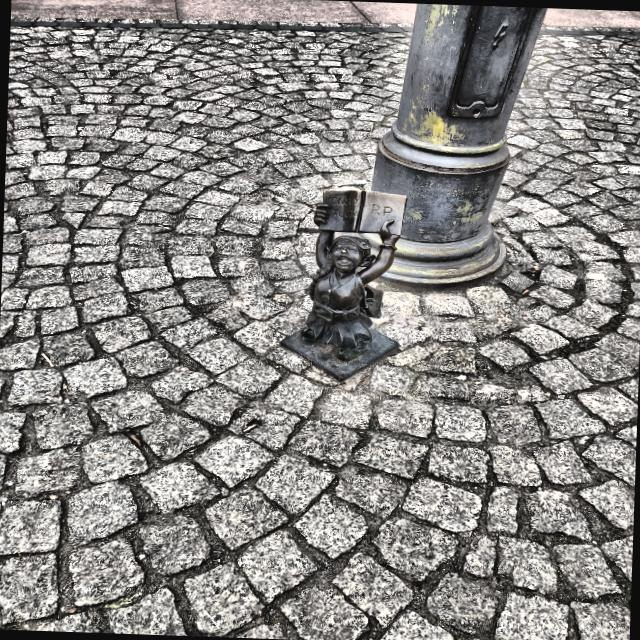Demokracja: (283, 189, 406, 372)
